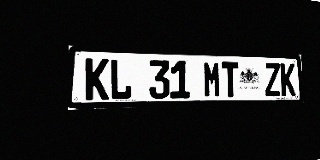1: (170, 60, 190, 99)
3: (149, 60, 170, 99)
K: (85, 58, 109, 100), (280, 63, 296, 96)
L: (110, 59, 132, 100)
M: (203, 61, 221, 98)
T: (221, 62, 239, 97)
Z: (264, 63, 281, 97)
